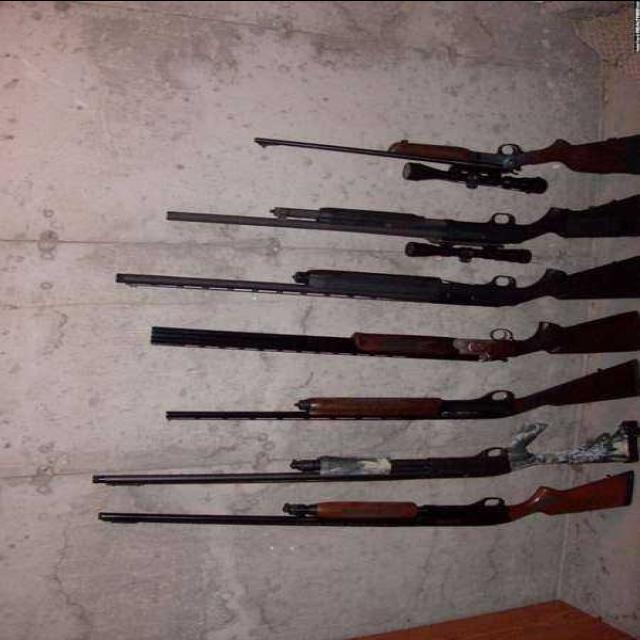heavyweapon: (147, 185, 640, 266), (78, 417, 640, 488), (73, 469, 640, 539), (250, 118, 640, 201), (152, 360, 640, 425), (101, 252, 639, 310), (134, 318, 640, 360)
